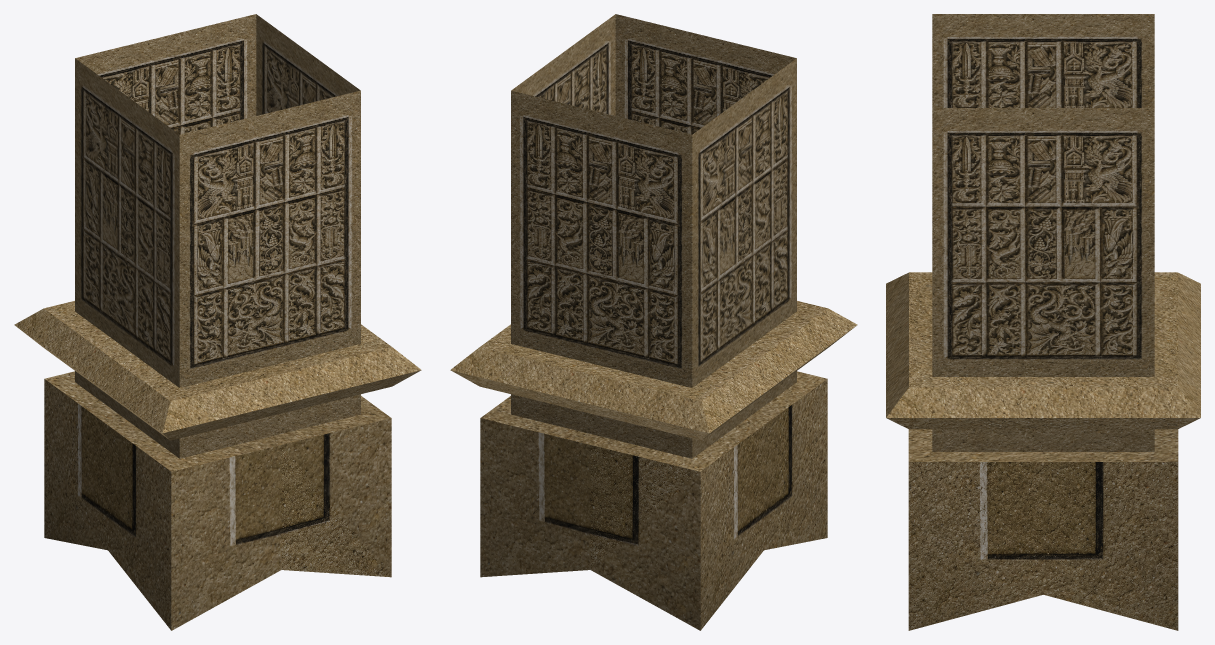
Rendered from mm9_deco_altar1flip.glb.
The picture shows the model from 3 angles, left to right: view 1: azimuth 30°, elevation 25°; view 2: azimuth 150°, elevation 25°; view 3: azimuth 270°, elevation 25°; orthographic projection. The views are drawn at different scales.
Visible parts, largest first — view 1: Altar1flip; view 2: Altar1flip; view 3: Altar1flip.
Boxes of the visible parts, x1,y1,x2,y2 form: Altar1flip: [14, 14, 421, 630]; Altar1flip: [450, 14, 857, 630]; Altar1flip: [886, 14, 1200, 630].
Size of the model in its own units: 1.38 by 2.46 by 1.37.
2 materials, 2 textured.
